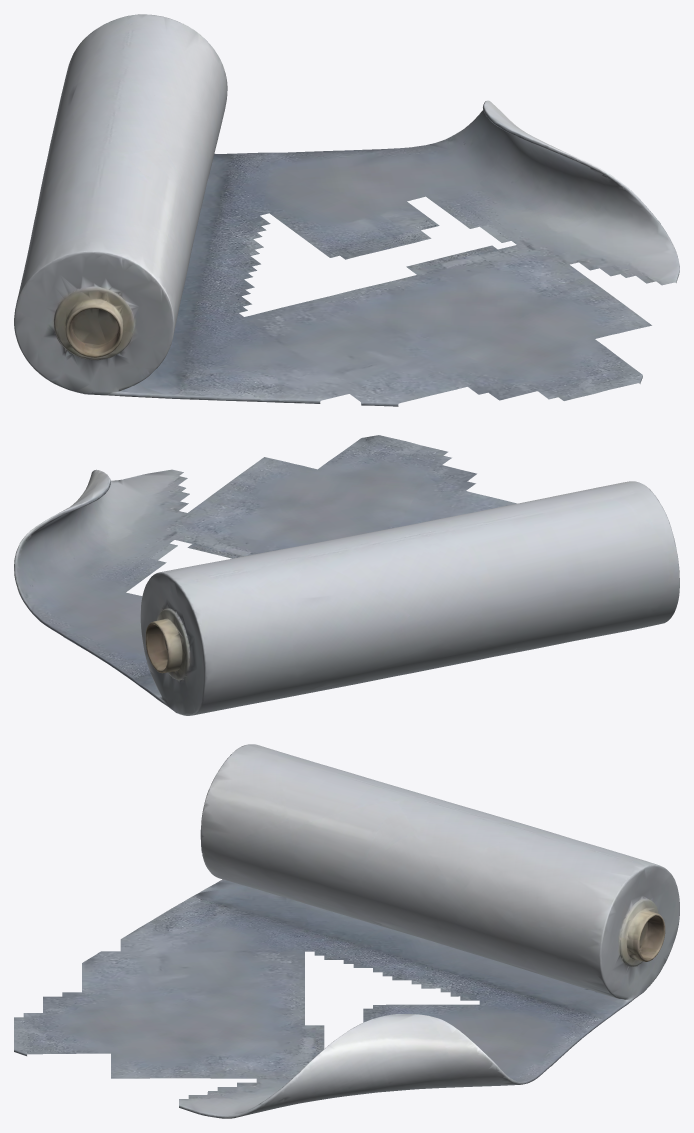
File: pmh-3080-plus.glb
3 renders of one model, top to bottom at view 1: azimuth 30°, elevation 25°; view 2: azimuth 150°, elevation 25°; view 3: azimuth 270°, elevation 25°, orthographic. The views are drawn at different scales.
Visible parts, largest first — view 1: tripo_node_054b031b-ef9f-41f5-bdeb-b6e9f25f159d; view 2: tripo_node_054b031b-ef9f-41f5-bdeb-b6e9f25f159d; view 3: tripo_node_054b031b-ef9f-41f5-bdeb-b6e9f25f159d.
Boxes of the visible parts, box(x1,y1,x2,y2) form: tripo_node_054b031b-ef9f-41f5-bdeb-b6e9f25f159d: box(14, 14, 679, 406); tripo_node_054b031b-ef9f-41f5-bdeb-b6e9f25f159d: box(14, 435, 679, 715); tripo_node_054b031b-ef9f-41f5-bdeb-b6e9f25f159d: box(14, 744, 679, 1118).
Bounding box in the file's own units: 0.9699 × 0.209 × 0.9999.
Materials: 1 (1 with a texture image).
